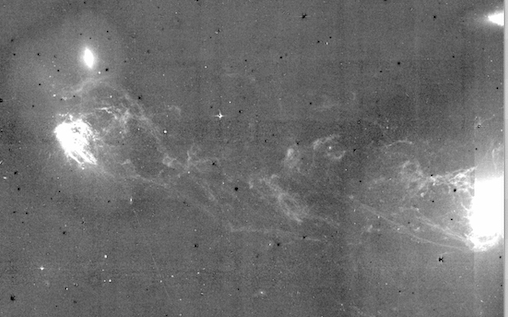Halpha: (86, 100, 471, 261), (41, 67, 165, 113), (461, 88, 504, 177)
